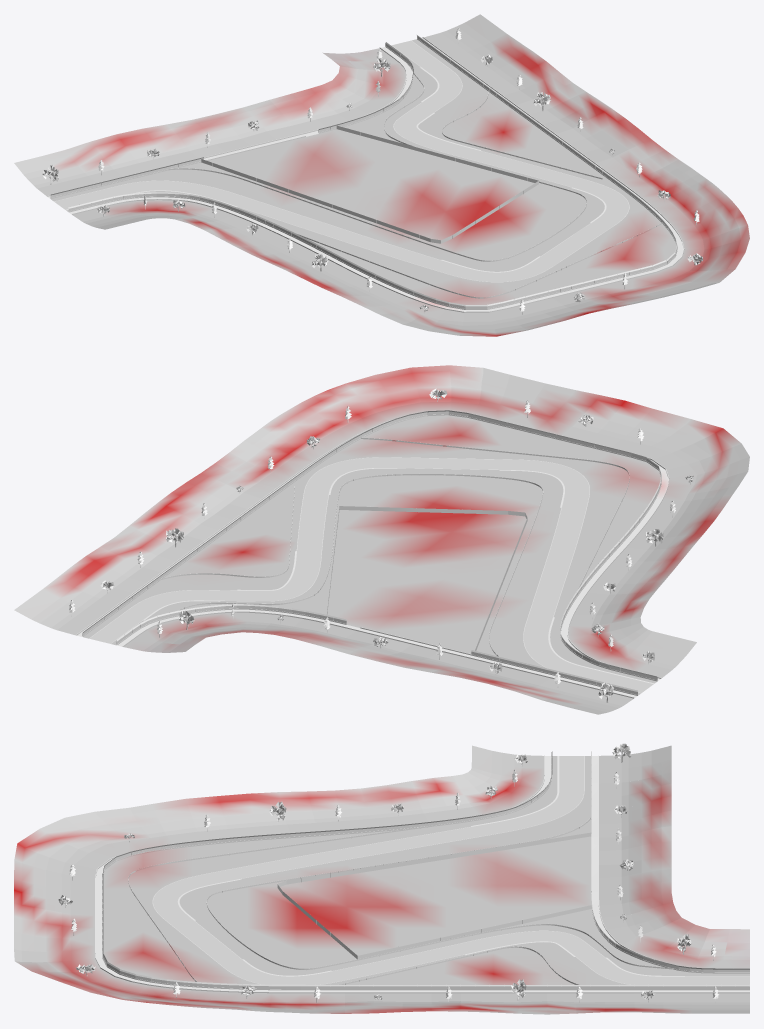
3 views of the same model, one above another, from view 1: azimuth 30°, elevation 25°; view 2: azimuth 150°, elevation 25°; view 3: azimuth 270°, elevation 25° (orthographic). The views are drawn at different scales.
Visible parts, largest first — view 1: Grass, Road, Wirefence, Track, Trees; view 2: Grass, Road, Track, Wirefence, Trees; view 3: Grass, Road, Wirefence, Track, Trees.
Part boxes in pixels (left/top/right/bottom): Grass: left=14, top=14, right=749, bottom=336; Road: left=54, top=40, right=629, bottom=281; Wirefence: left=50, top=35, right=677, bottom=308; Track: left=47, top=36, right=684, bottom=312; Trees: left=42, top=28, right=702, bottom=314; Grass: left=14, top=365, right=749, bottom=714; Road: left=89, top=457, right=653, bottom=692; Track: left=76, top=410, right=669, bottom=698; Wirefence: left=82, top=410, right=661, bottom=694; Trees: left=69, top=388, right=693, bottom=702; Grass: left=14, top=745, right=749, bottom=1014; Road: left=153, top=756, right=749, bottom=984; Wirefence: left=102, top=751, right=749, bottom=989; Track: left=95, top=755, right=749, bottom=993; Trees: left=58, top=743, right=718, bottom=1002.
Size of what is drawn, in the model's own units: 44500 by 1702 by 51607.
